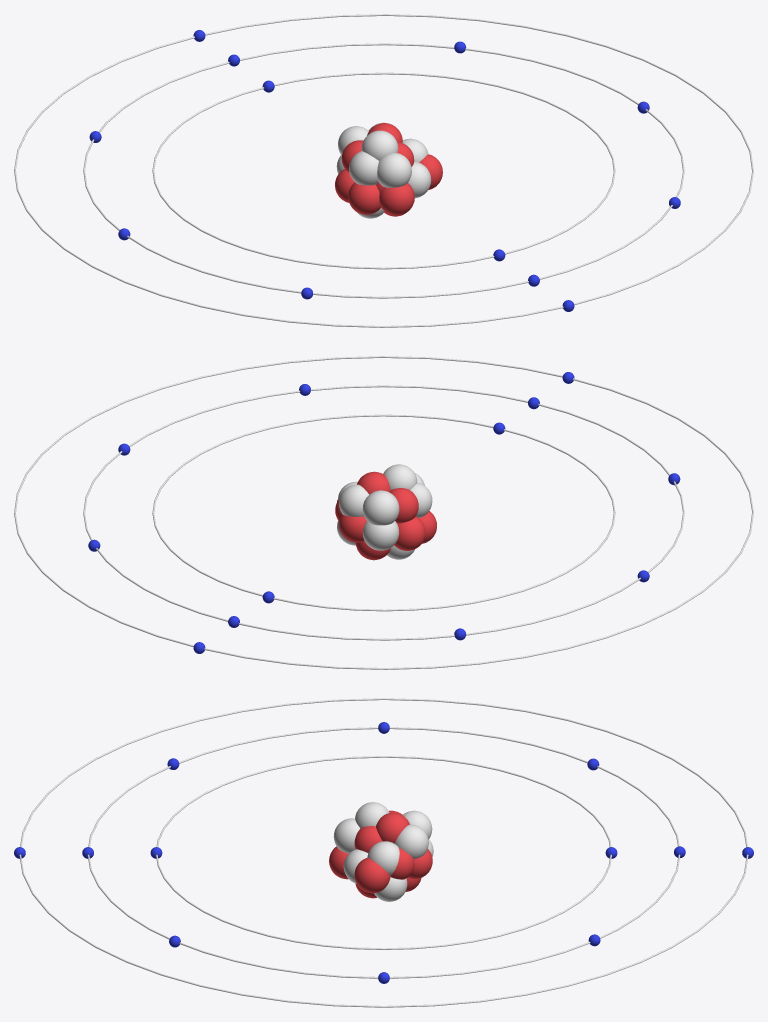
Rendered from Magnesium.glb.
The picture shows the model from 3 angles, top to bottom: view 1: azimuth 30°, elevation 25°; view 2: azimuth 150°, elevation 25°; view 3: azimuth 270°, elevation 25°; orthographic projection.
Parts seen in each view (by area): view 1: M-Schale, L-Schale, K-Schale, Neutron 10, Proton 10, Proton 7, Neutron 7, Neutron 11, Neutron 4; view 2: M-Schale, L-Schale, K-Schale, Neutron 9, Neutron 8, Proton 8, Neutron 12, Proton 9, Neutron 11, Proton 12, Proton 6; view 3: M-Schale, L-Schale, K-Schale, Proton 11, Neutron 12, Neutron 6, Proton 6, Neutron 10, Neutron 11, Proton 2.
Boxes of the visible parts, bbox=[...] form: M-Schale: bbox=[14, 14, 753, 327]; L-Schale: bbox=[83, 43, 684, 298]; K-Schale: bbox=[152, 72, 615, 269]; Neutron 10: bbox=[377, 152, 411, 187]; Proton 10: bbox=[379, 183, 414, 215]; Proton 7: bbox=[348, 182, 380, 214]; Neutron 7: bbox=[349, 151, 378, 185]; Neutron 11: bbox=[361, 130, 398, 160]; Neutron 4: bbox=[408, 161, 431, 198]; M-Schale: bbox=[14, 356, 753, 669]; L-Schale: bbox=[83, 385, 684, 640]; K-Schale: bbox=[152, 414, 615, 611]; Neutron 9: bbox=[362, 490, 399, 525]; Neutron 8: bbox=[362, 521, 399, 550]; Proton 8: bbox=[394, 516, 425, 550]; Neutron 12: bbox=[339, 484, 368, 516]; Proton 9: bbox=[389, 488, 418, 523]; Neutron 11: bbox=[383, 464, 417, 489]; Proton 12: bbox=[339, 514, 366, 542]; Proton 6: bbox=[357, 471, 390, 494]; M-Schale: bbox=[19, 698, 748, 1007]; L-Schale: bbox=[87, 727, 680, 978]; K-Schale: bbox=[156, 756, 611, 949]; Proton 11: bbox=[354, 857, 390, 893]; Neutron 12: bbox=[394, 824, 428, 859]; Neutron 6: bbox=[367, 841, 399, 875]; Proton 6: bbox=[376, 812, 409, 843]; Neutron 10: bbox=[333, 818, 360, 853]; Neutron 11: bbox=[355, 802, 389, 828]; Proton 2: bbox=[354, 826, 382, 852].
Bounding box in the file's own units: 16.04 × 2.09 × 16.26.
